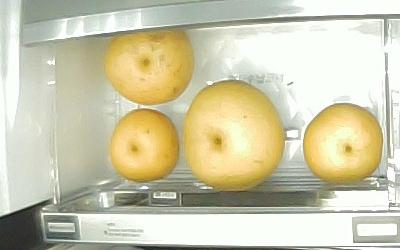pear: (183, 80, 283, 190), (103, 30, 194, 105), (302, 103, 383, 183), (109, 108, 178, 182)
